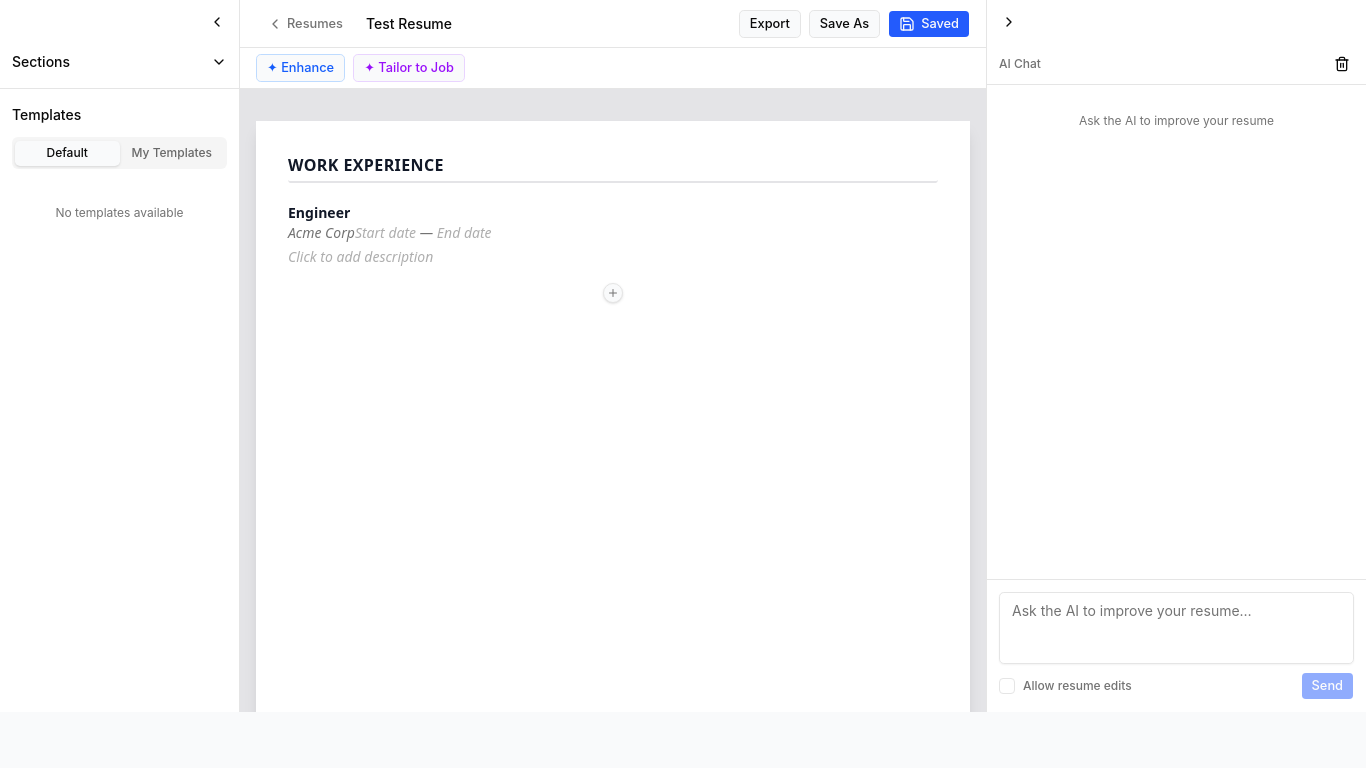
it: EditorPage › opens Save As dialog when Save As button is clicked
The image size is (1366, 768).
Click the button with aria-label "save as new resume": (844, 24) [809,10,880,38]
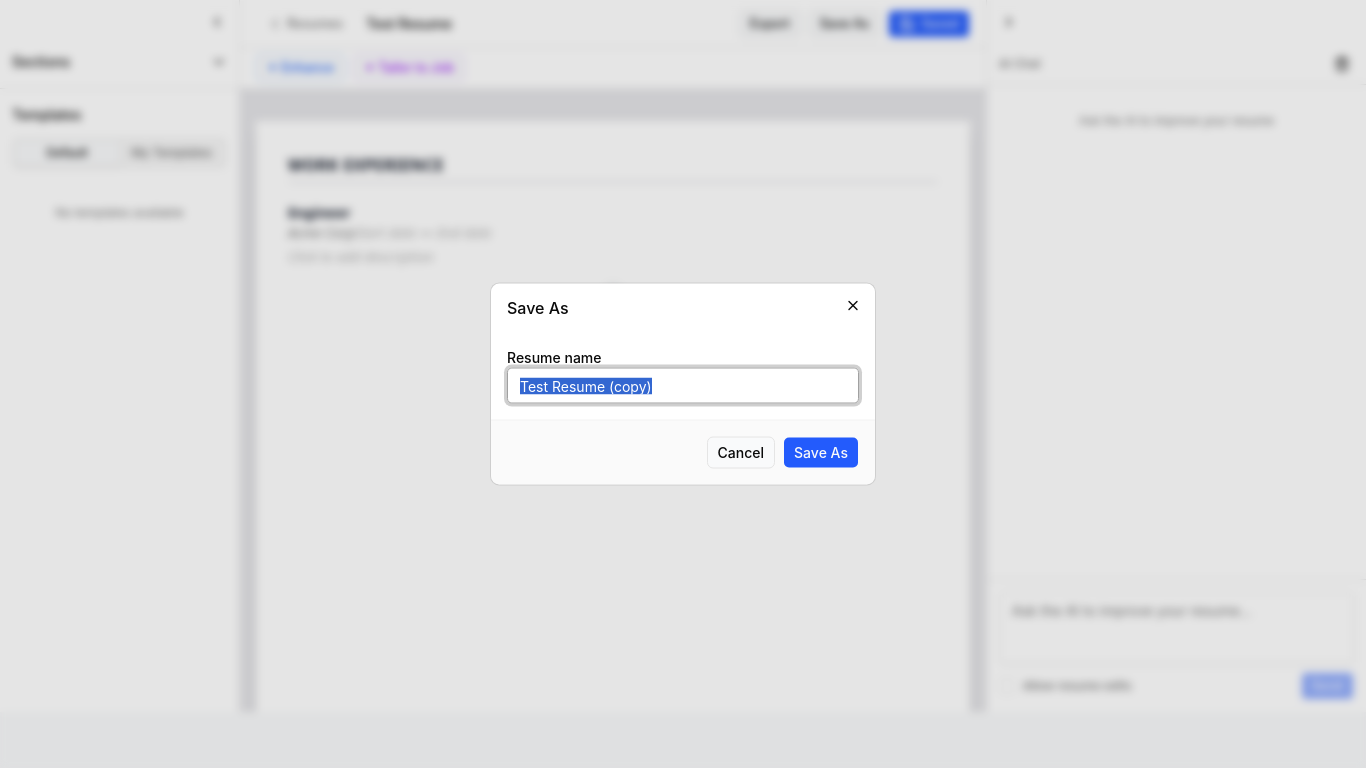
expect the dialog is shown: met, box [491,284,875,484]
